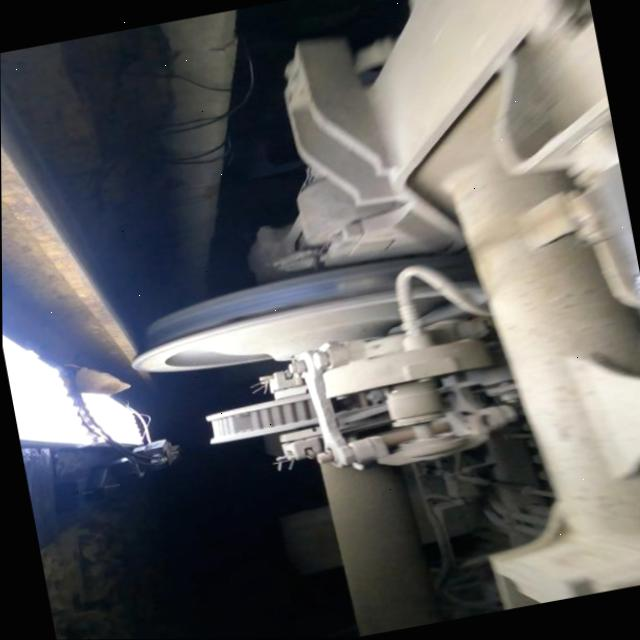Cracks-Scratches: (213, 302, 307, 325)
Shelling: (339, 275, 371, 291)
Wheel: (131, 252, 473, 371)
